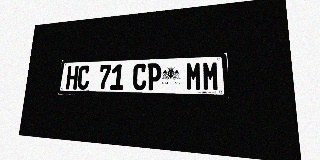1: (110, 64, 124, 90)
7: (97, 65, 111, 90)
C: (132, 63, 147, 90), (77, 65, 90, 90)
H: (66, 66, 79, 89)
M: (202, 61, 219, 91), (186, 62, 202, 91)
P: (146, 63, 161, 90)
